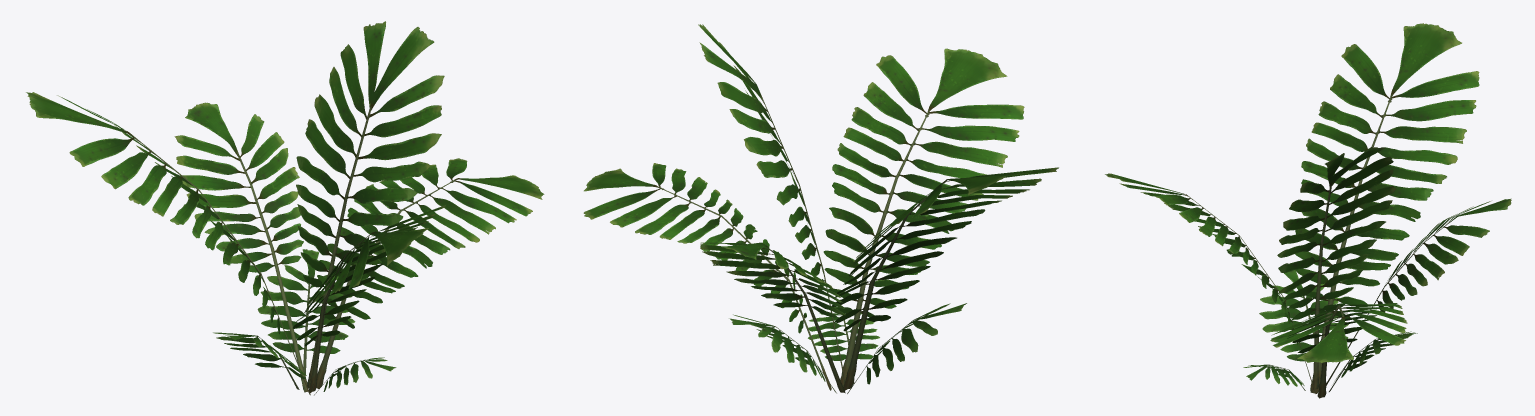
The model's file is TropicalPlant_BL_02.FBX.
The picture shows the model from 3 angles, left to right: view 1: azimuth 30°, elevation 25°; view 2: azimuth 150°, elevation 25°; view 3: azimuth 270°, elevation 25°; orthographic projection. The views are drawn at different scales.
Visible parts, largest first — view 1: TropicalPlant_BL_02; view 2: TropicalPlant_BL_02; view 3: TropicalPlant_BL_02.
Boxes of the visible parts, x1=… form: TropicalPlant_BL_02: x1=26, y1=21, x2=544, y2=395; TropicalPlant_BL_02: x1=583, y1=24, x2=1058, y2=393; TropicalPlant_BL_02: x1=1105, y1=23, x2=1511, y2=398.
Size of the model in its own units: 336 by 233 by 287.
